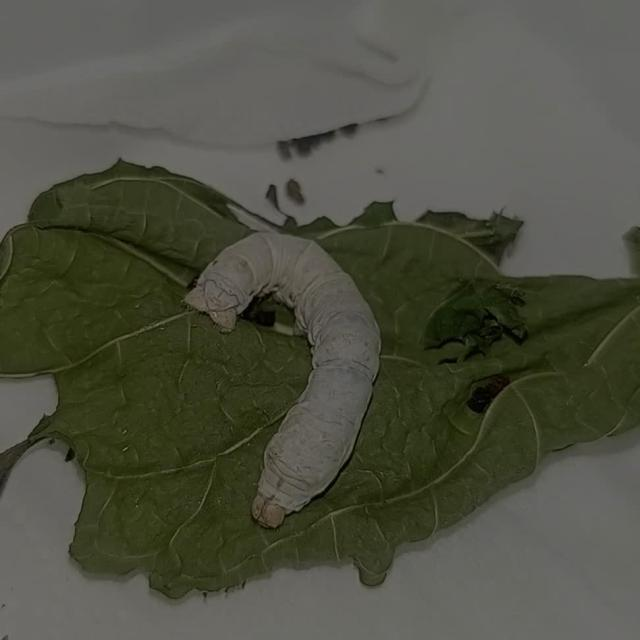Healthy: (154, 207, 396, 546)
